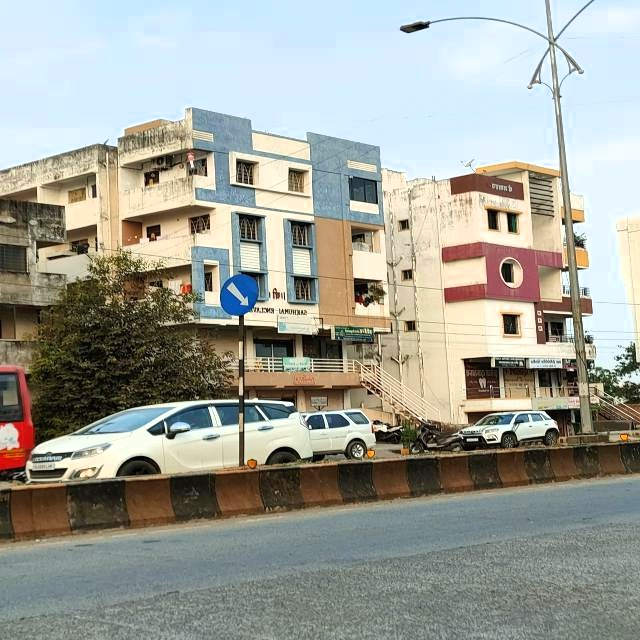R.301e: (204, 267, 262, 325)
